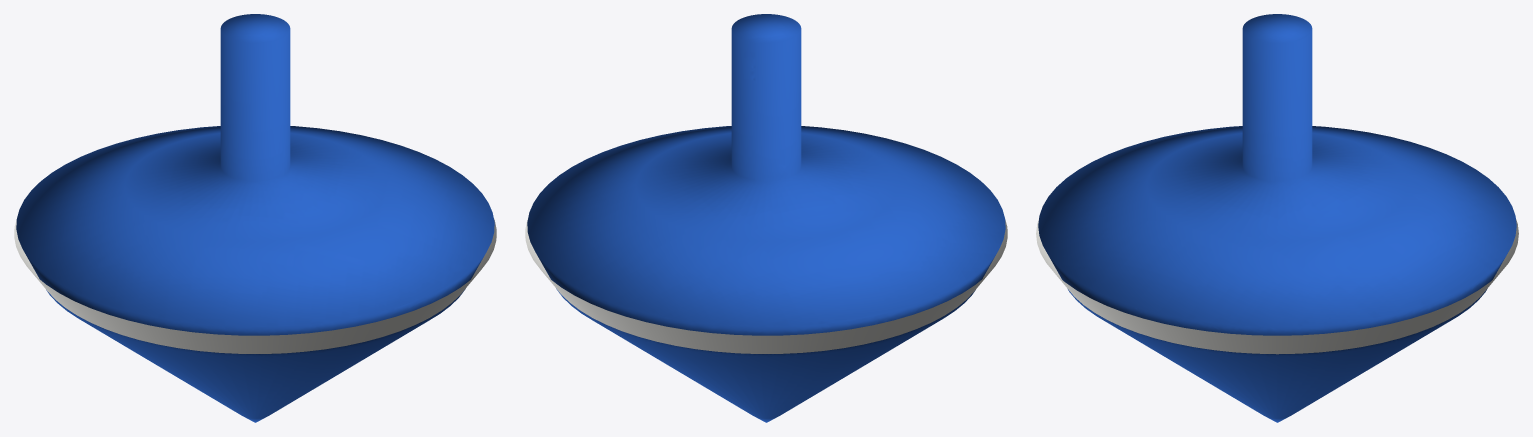
File: blue.glb
The picture shows the model from 3 angles, left to right: view 1: azimuth 30°, elevation 25°; view 2: azimuth 150°, elevation 25°; view 3: azimuth 270°, elevation 25°; orthographic projection.
Visible parts, largest first — view 1: paint_primary_top, stripe; view 2: paint_primary_top, stripe; view 3: paint_primary_top, stripe.
Boxes of the visible parts, x1=… form: paint_primary_top: x1=16, y1=14, x2=494, y2=422; stripe: x1=14, y1=219, x2=496, y2=353; paint_primary_top: x1=527, y1=14, x2=1005, y2=422; stripe: x1=525, y1=219, x2=1007, y2=353; paint_primary_top: x1=1038, y1=14, x2=1516, y2=422; stripe: x1=1036, y1=219, x2=1518, y2=354.
Size of the model in its own units: 0.111 by 0.1 by 0.111.
2 materials, 1 textured.
